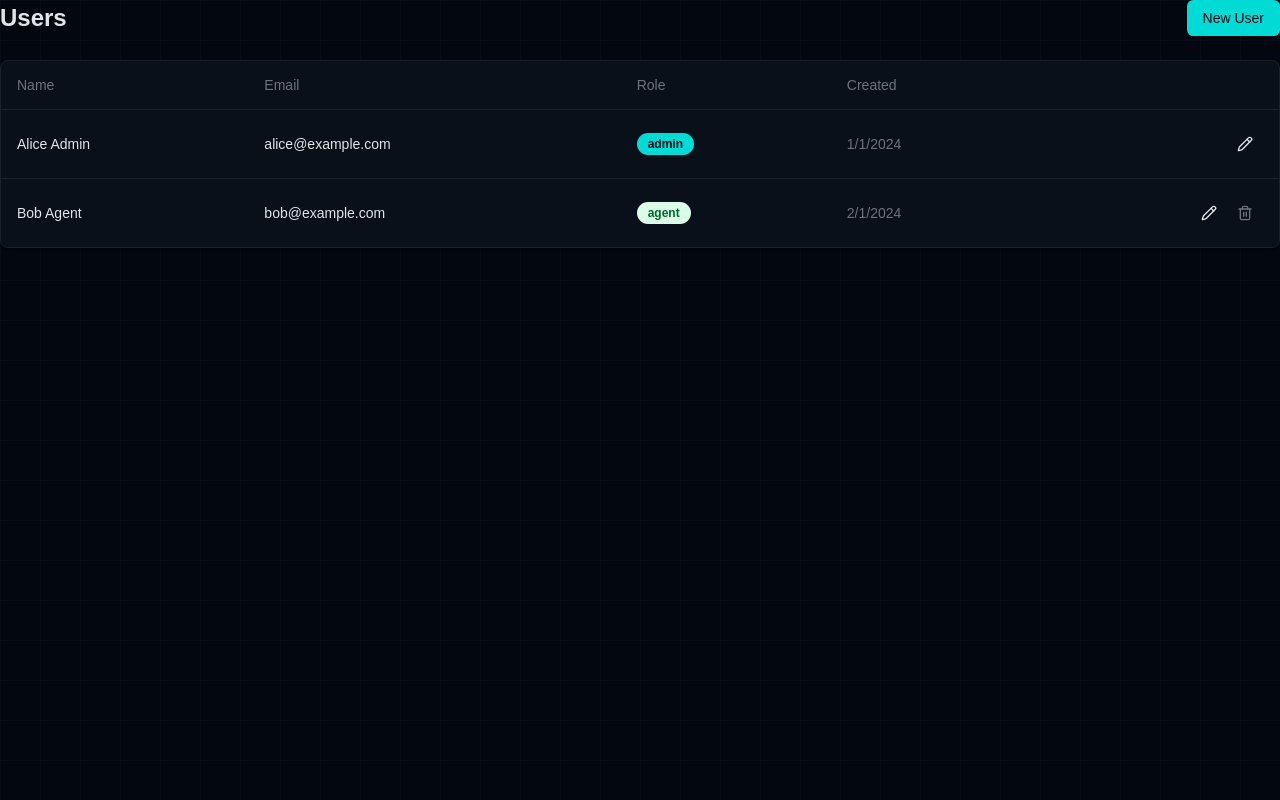
Test case: UsersPage › edit user › opens the dialog pre-populated with the user's data
Check: the text "Alice Admin" is shown, box top-left (1, 109), bottom-right (248, 178)
Click the button named "edit" in the row of "Alice Admin" at x=1245, y=144, box top-left (1227, 126), bottom-right (1263, 162)
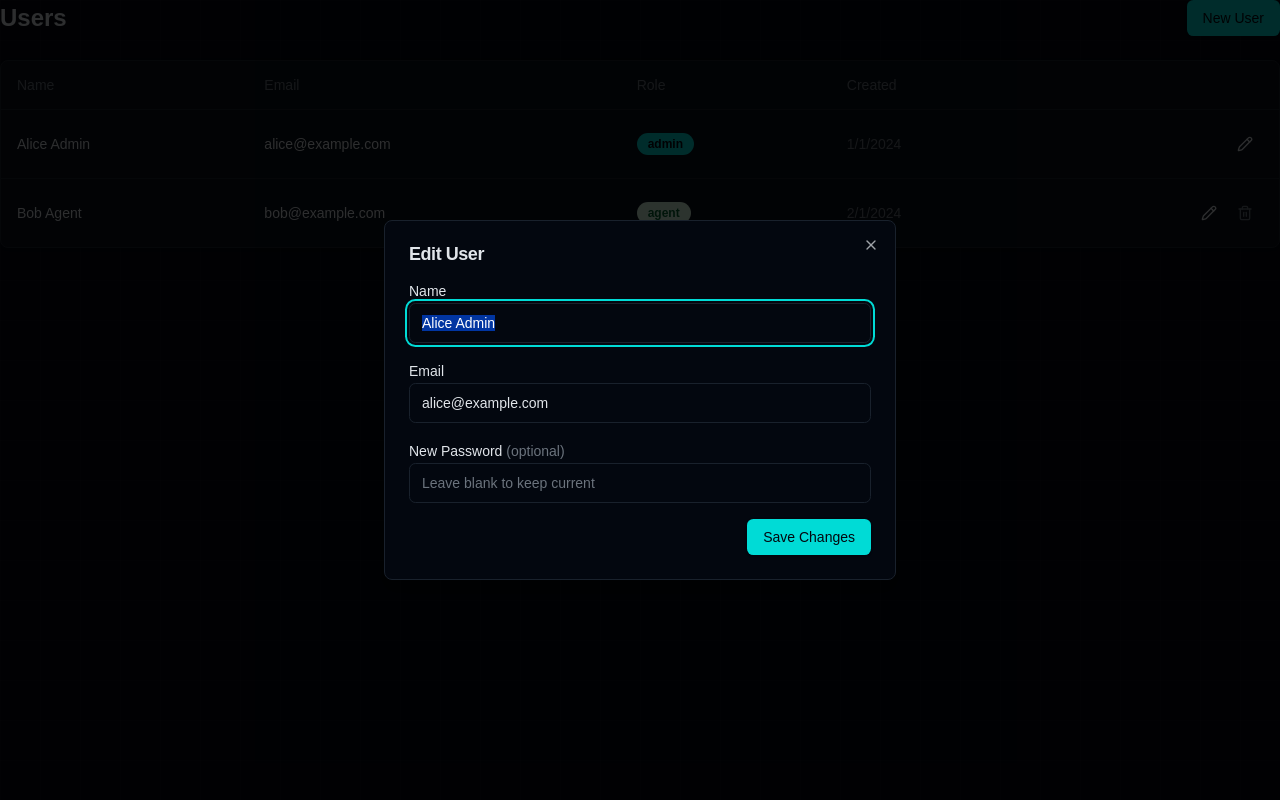
Check: the dialog is shown, box top-left (384, 220), bottom-right (896, 580)
Check: the heading "Edit User" is shown, box top-left (409, 244), bottom-right (484, 264)
Check: the field labelled "Name" holds "Alice Admin", box top-left (409, 303), bottom-right (871, 343)
